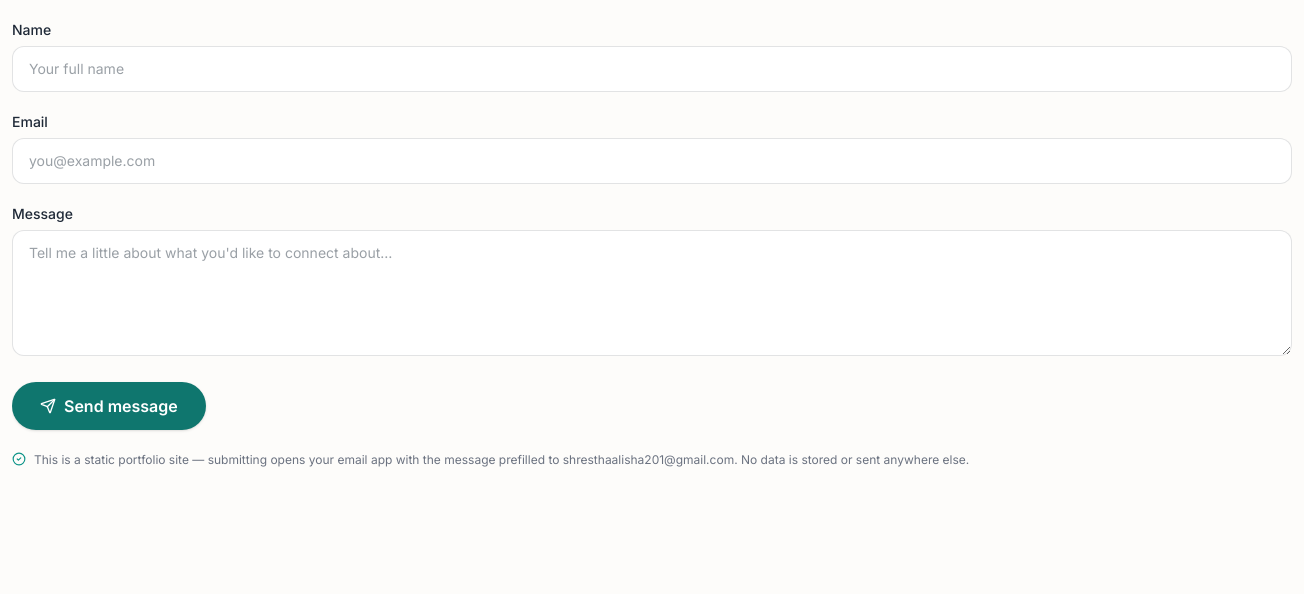
ContactForm validation › announces a summary and shows field errors when submitted empty
Click the button "Send message": x=109, y=406 [12, 382, 206, 430]
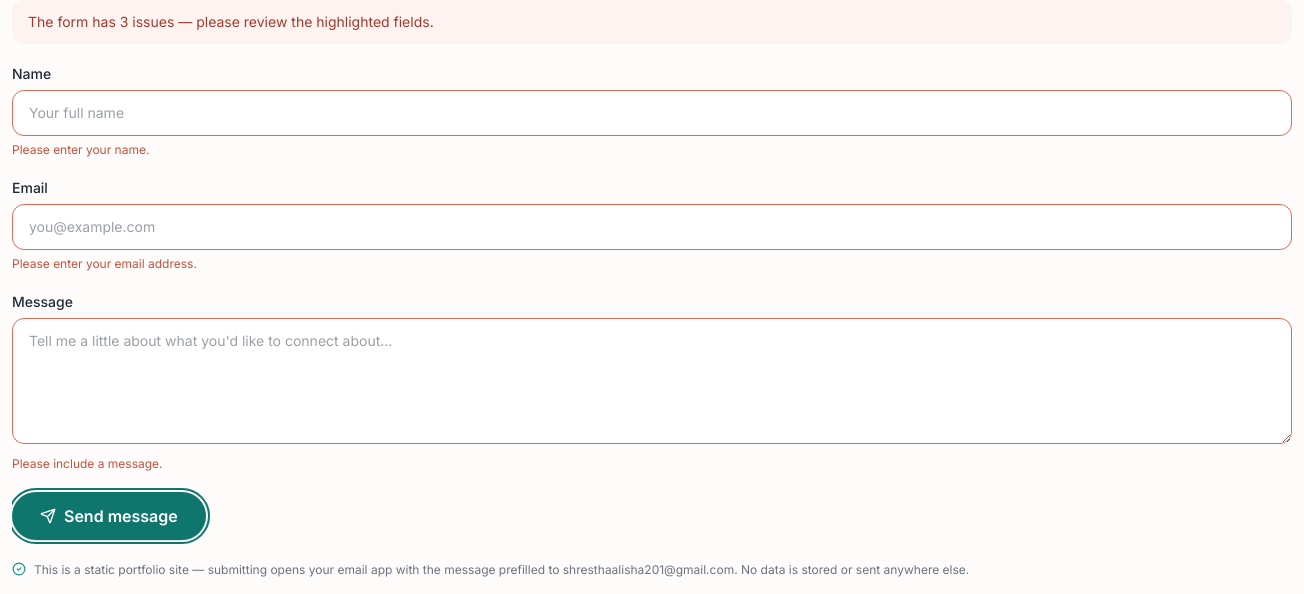
Check: the message shows "3 issues", box [28, 13, 434, 30]
Check: the text "Please enter your name." is shown, box [12, 142, 149, 157]
Check: the text "Please enter your email address." is shown, box [12, 256, 197, 271]
